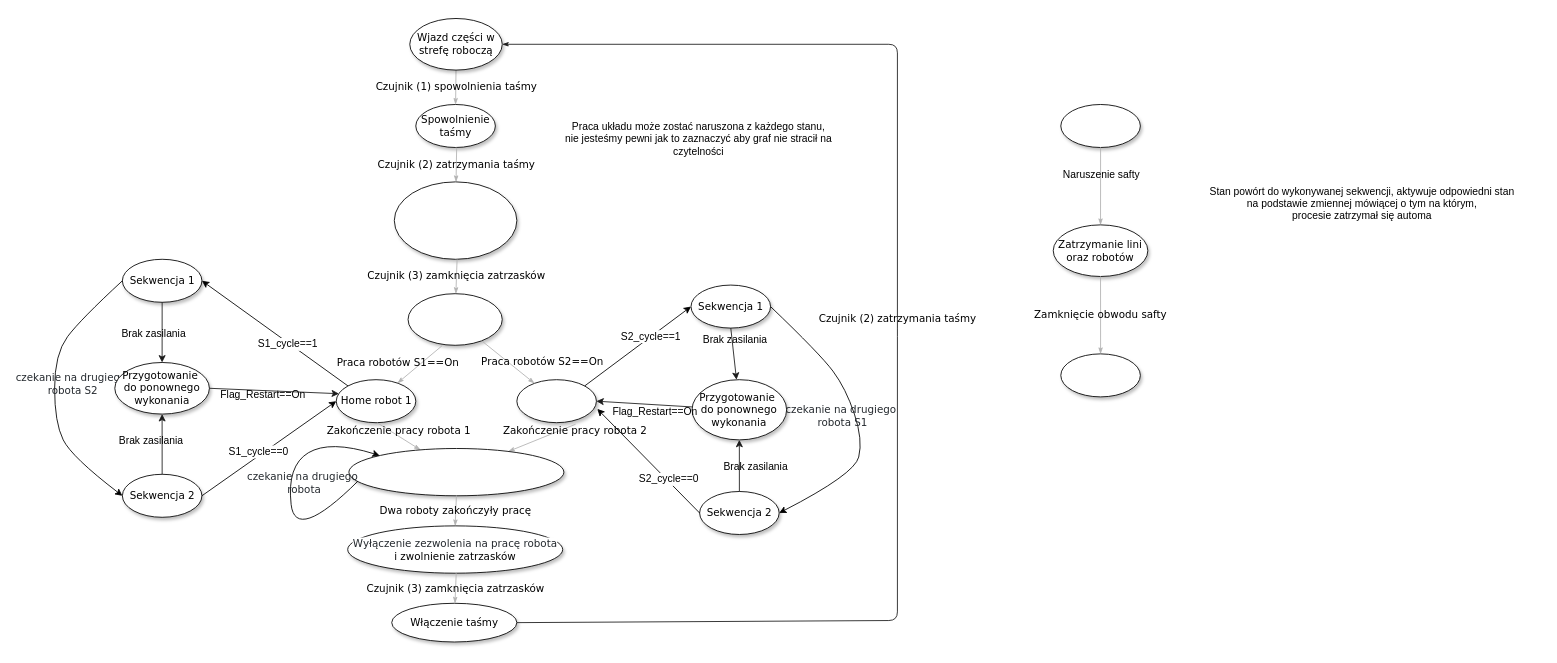
Image size: 1557x663. Some labels were removed from this diagram. The centre of each missing label's shape, as x and y in pixels:
"Home robot 2" goes at point (557, 402).
"Powrót do wykonywanej sekwencji" goes at point (1101, 376).
"Praca układu" goes at point (1101, 127).
"Sprawdzenie pozycji robota" goes at point (457, 473).
"Zatrzymanie taśmy i zamknięcie zatrzasków" goes at point (456, 221).
"Zezwolenie na pracę robotów" goes at point (455, 320).
